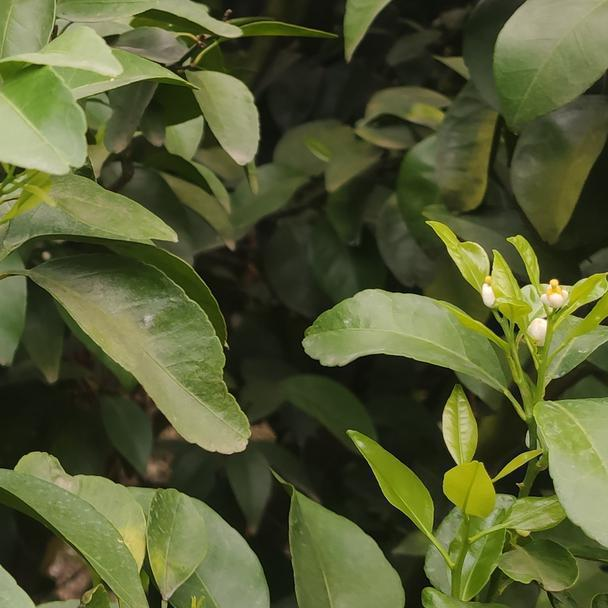shoot: (356, 385, 568, 608)
